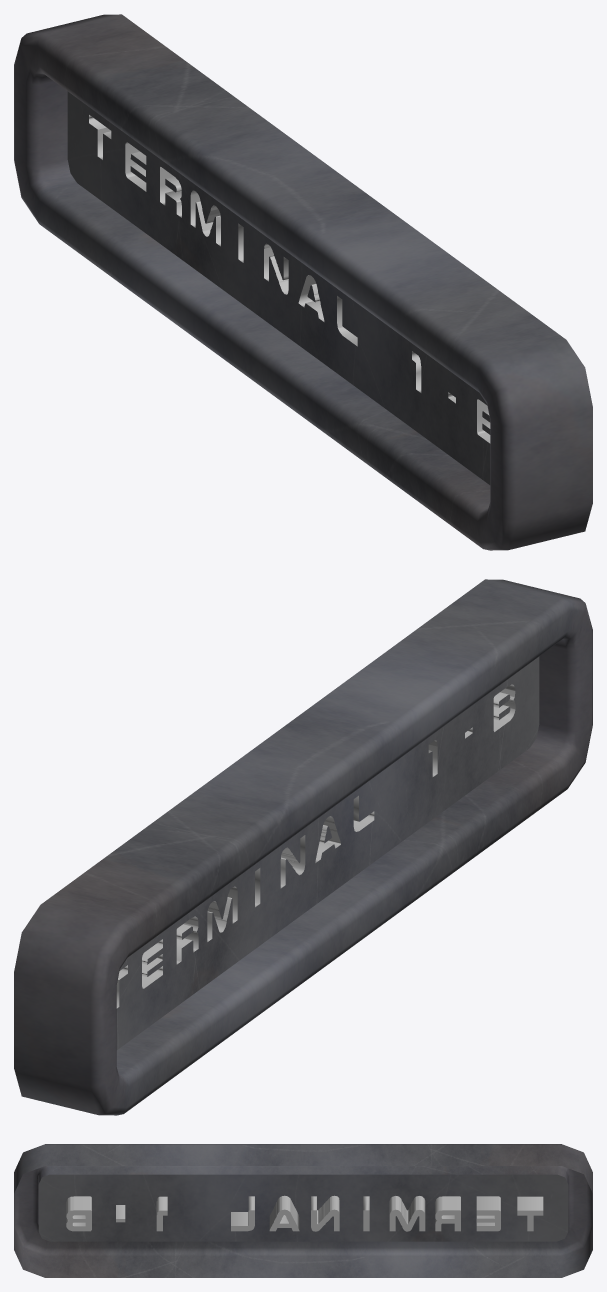
The model's file is Terminal_1B.fbx.
3 renders of one model, top to bottom at view 1: azimuth 30°, elevation 25°; view 2: azimuth 150°, elevation 25°; view 3: azimuth 270°, elevation 25°, orthographic. The views are drawn at different scales.
Visible parts, largest first — view 1: Terminal_1B; view 2: Terminal_1B; view 3: Terminal_1B.
Boxes of the visible parts, x1,y1,x2,y2 form: Terminal_1B: (14, 14, 592, 550); Terminal_1B: (14, 579, 592, 1115); Terminal_1B: (14, 1144, 592, 1277).
Bounding box in the file's own units: 46.75 × 100 × 470.
